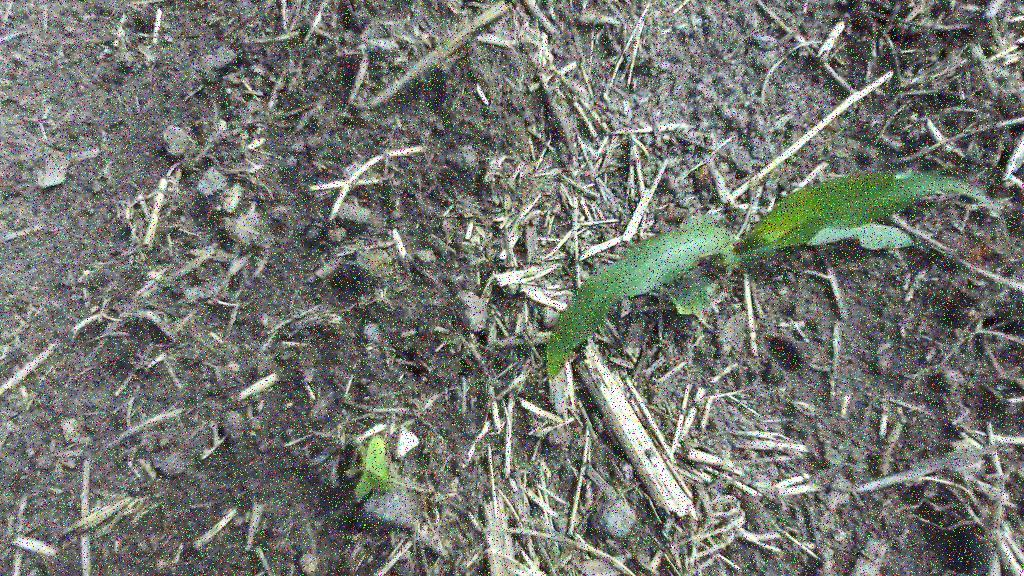BroWeed: (335, 432, 402, 501), (959, 234, 997, 268), (892, 310, 924, 341), (134, 41, 161, 67), (905, 122, 930, 145), (366, 252, 389, 268), (848, 260, 863, 273), (549, 545, 562, 558), (240, 129, 250, 141)
Maize: (521, 148, 1021, 379)
